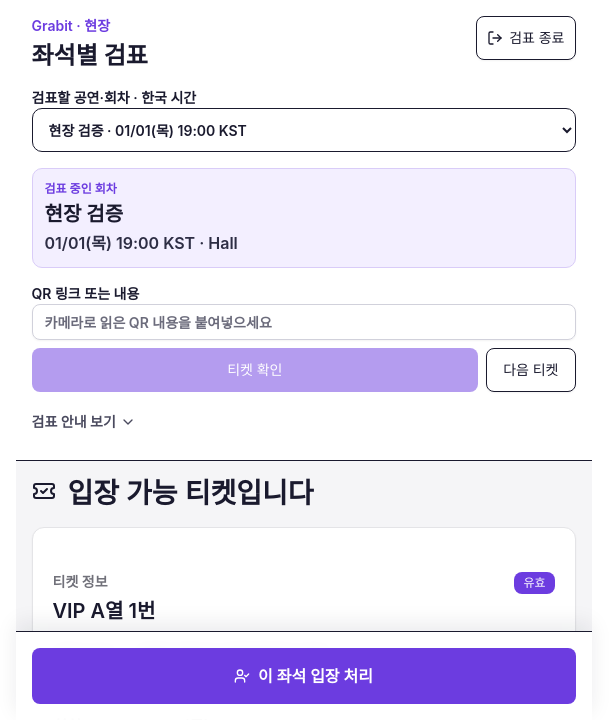
Test: FieldCheckInPage first screen (field-ops-2, field-ops-3) › brings each new scan result into view once, not on every queue change
Check: the button "이 좌석 입장 처리" is enabled, box top-left (32, 648), bottom-right (576, 704)
Check: the message "입장 가능 티켓입니다" is shown, box top-left (32, 476), bottom-right (314, 510)
# The next QR, even the same one, is a new scan.
Click the button "다음 티켓" at (531, 370), box top-left (486, 348), bottom-right (576, 392)
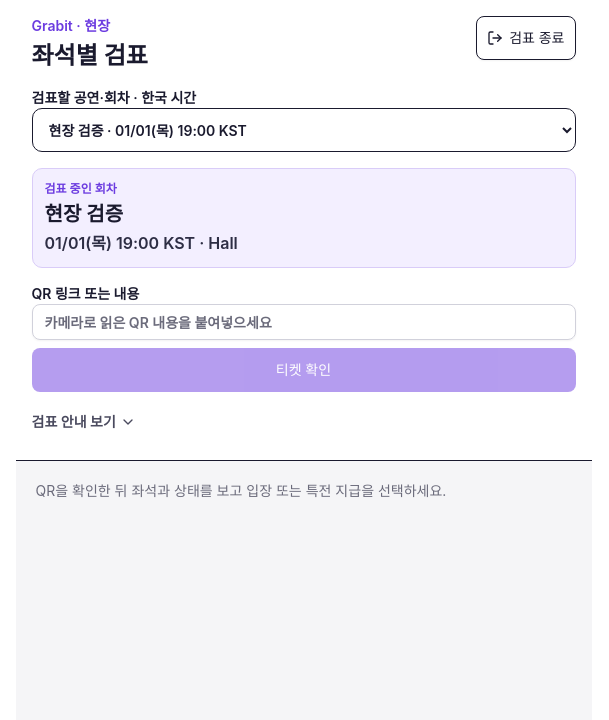
Type "raw-ticket-token-for-benefit-redemption" into the password field labelled "QR 링크 또는 내용" at (304, 322), box top-left (32, 304), bottom-right (576, 340)
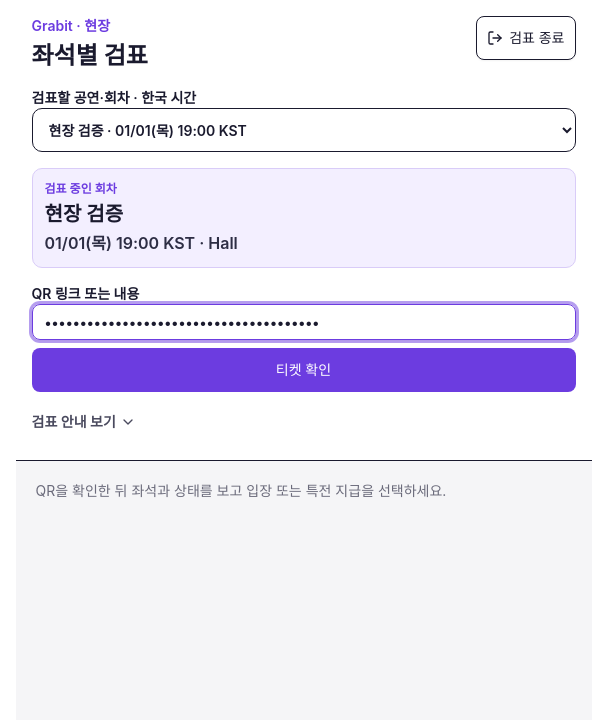
Click the button "티켓 확인" at (304, 370), box top-left (32, 348), bottom-right (576, 392)
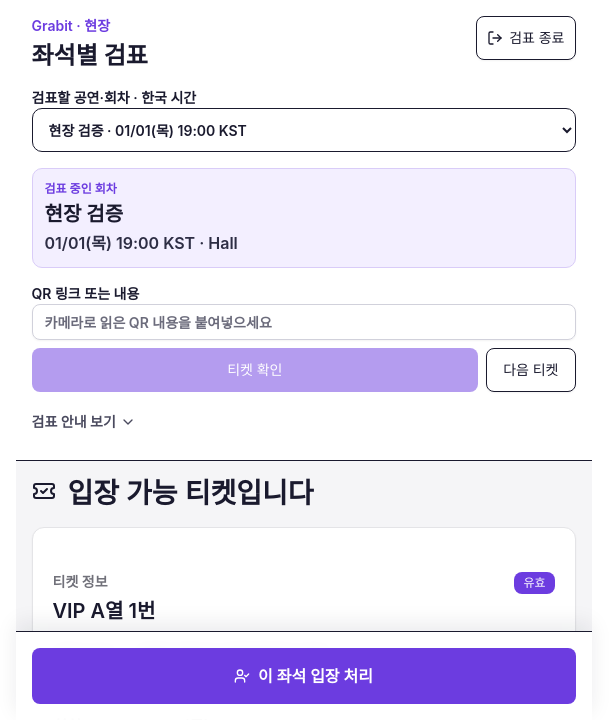
Check: the button "이 좌석 입장 처리" is shown, box top-left (32, 648), bottom-right (576, 704)
